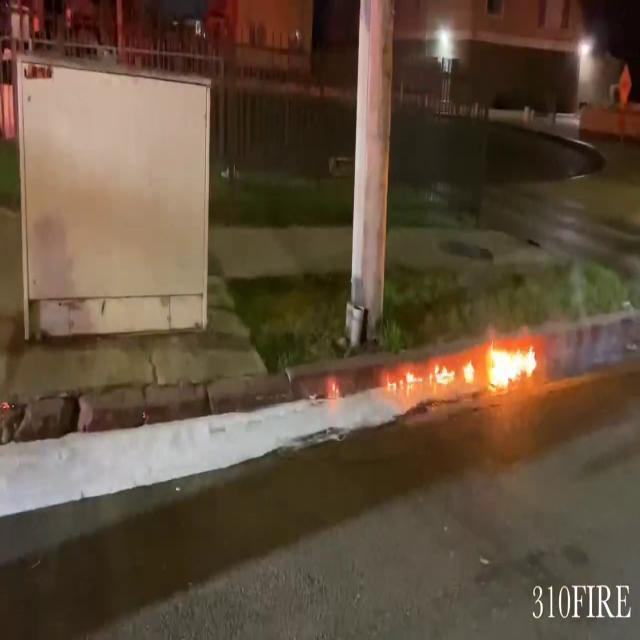Fire: (389, 332, 541, 396)
